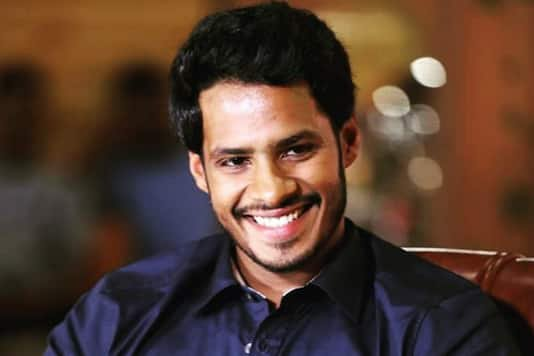noMask: (159, 14, 380, 276)
